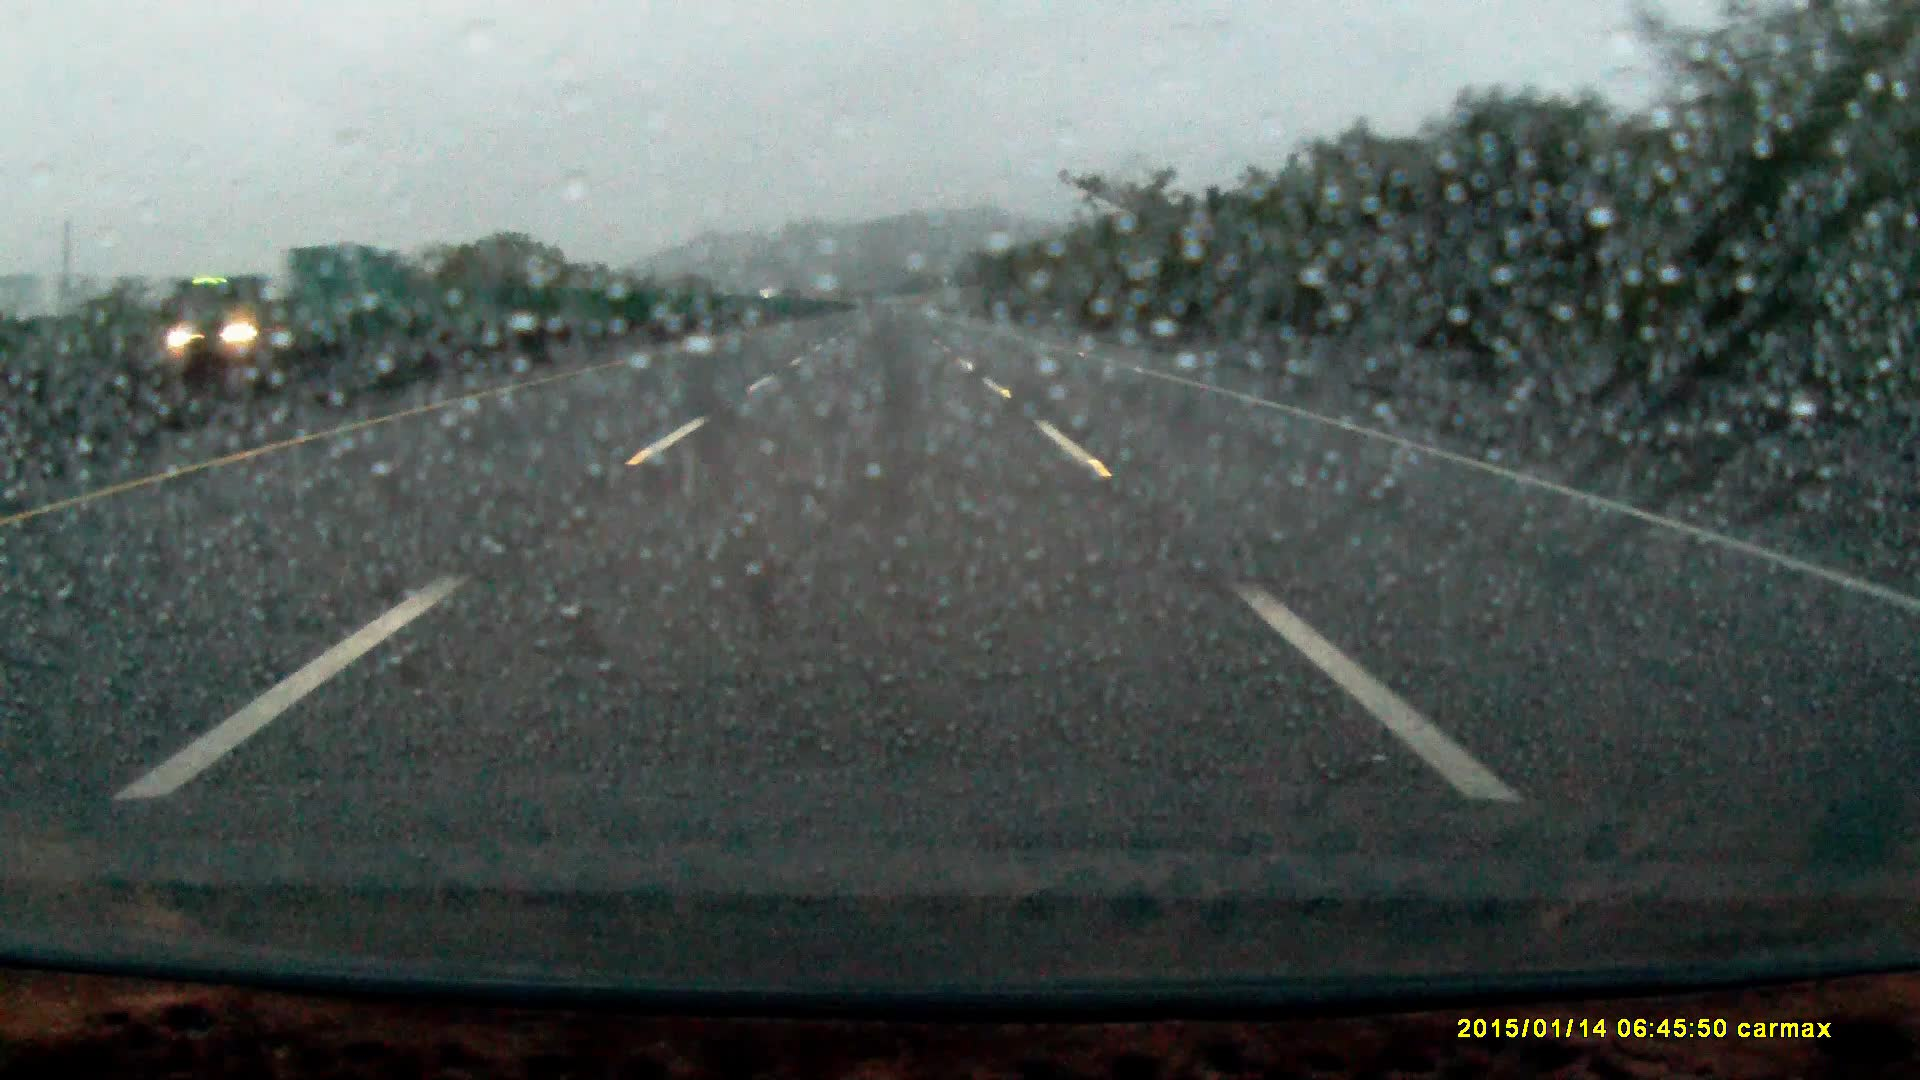vehicle: (154, 243, 406, 363)
